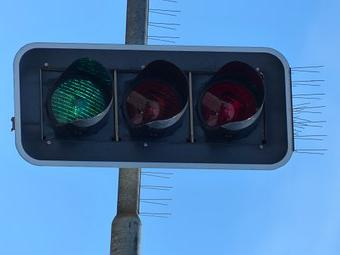trafic: (22, 53, 276, 154)
